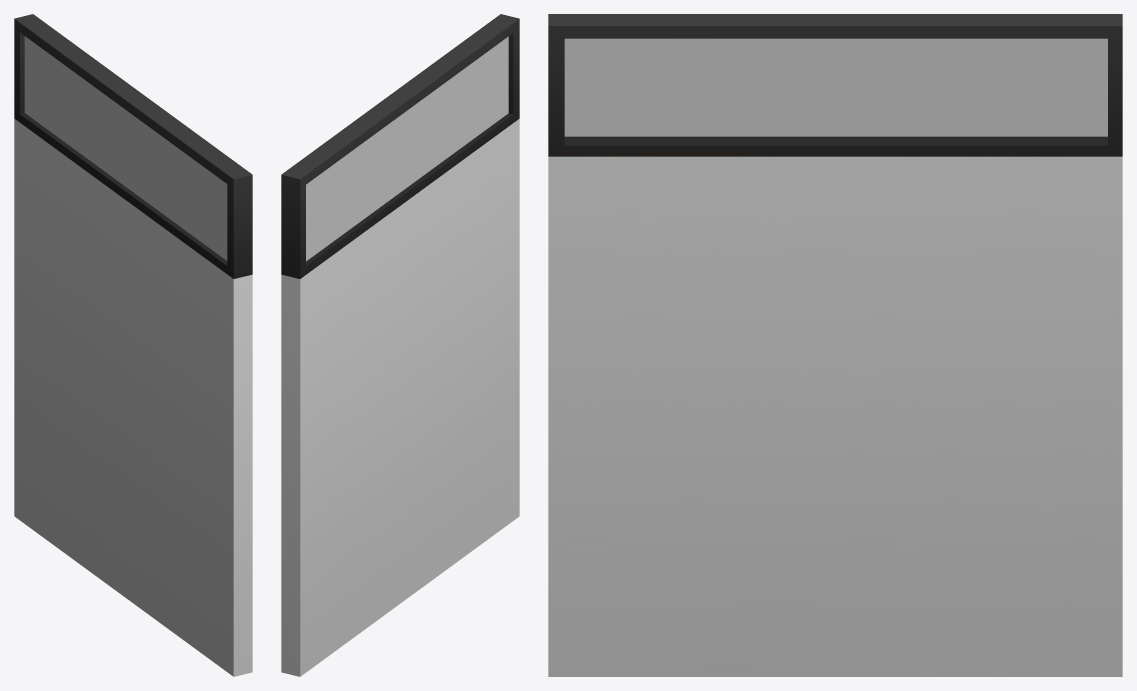
The model's file is ParedSinPuerta.fbx.
The picture shows the model from 3 angles, left to right: view 1: azimuth 30°, elevation 25°; view 2: azimuth 150°, elevation 25°; view 3: azimuth 270°, elevation 25°; orthographic projection. The views are drawn at different scales.
Parts seen in each view (by area): view 1: Pared, Cristal, Marco cristal; view 2: Pared, Cristal, Marco cristal; view 3: Pared, Cristal, Marco cristal.
Part boxes in pixels (x1,y1,x2,y2): Pared: [14, 119, 252, 676]; Cristal: [24, 36, 227, 260]; Marco cristal: [14, 14, 252, 278]; Pared: [281, 119, 519, 676]; Cristal: [306, 36, 508, 261]; Marco cristal: [281, 14, 519, 278]; Pared: [548, 156, 1122, 676]; Cristal: [564, 38, 1107, 136]; Marco cristal: [548, 14, 1122, 156].
Size of the model in its own units: 10 by 250 by 200.
